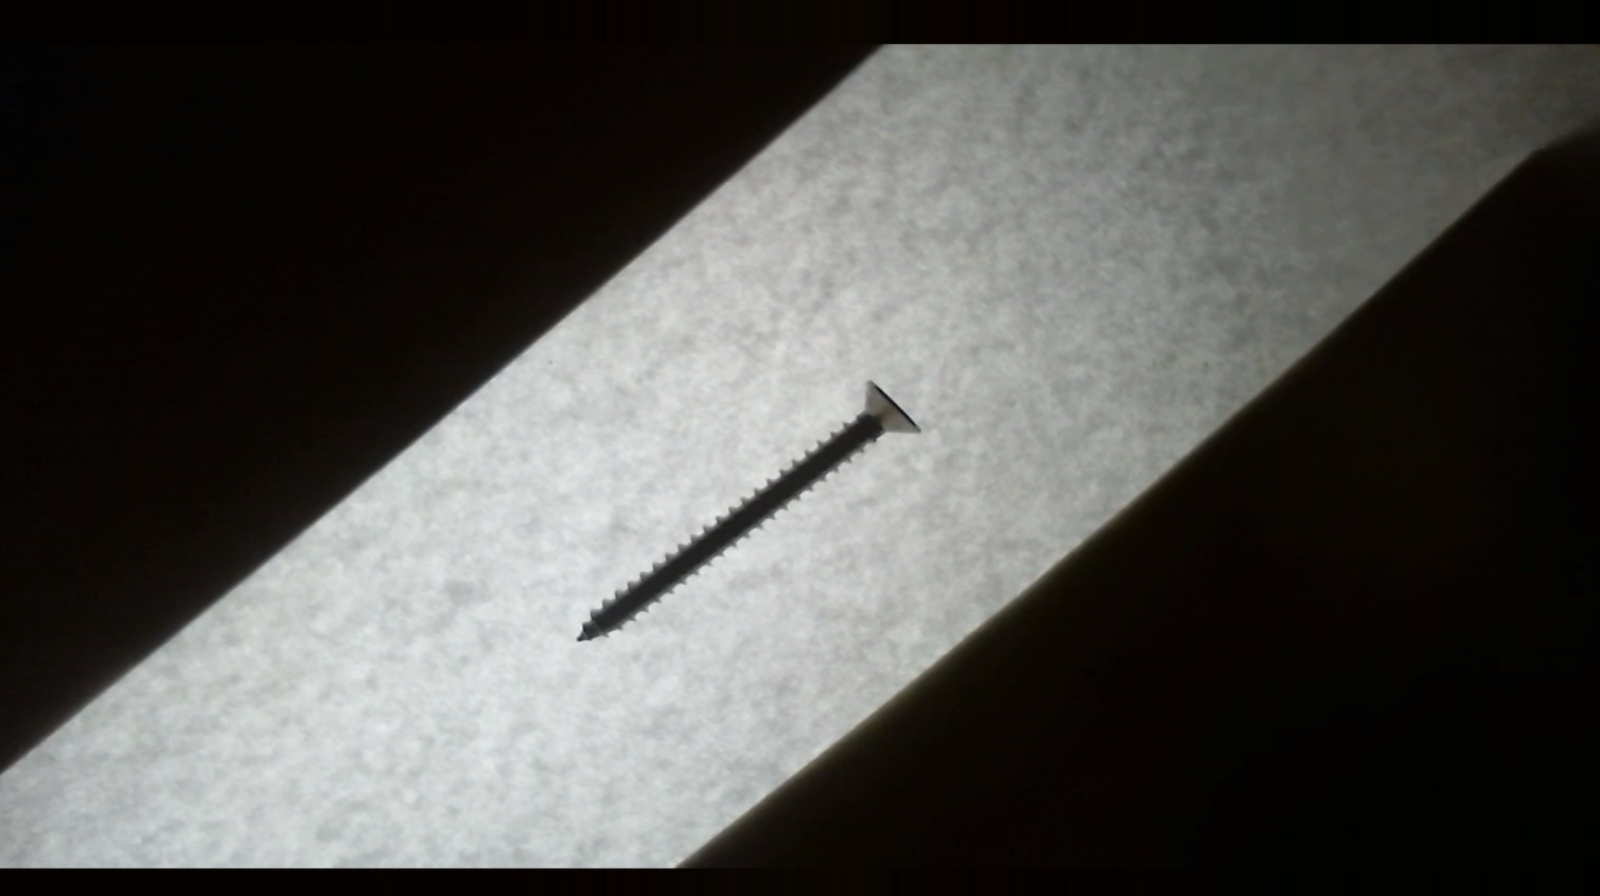S002: (563, 375, 931, 649)
